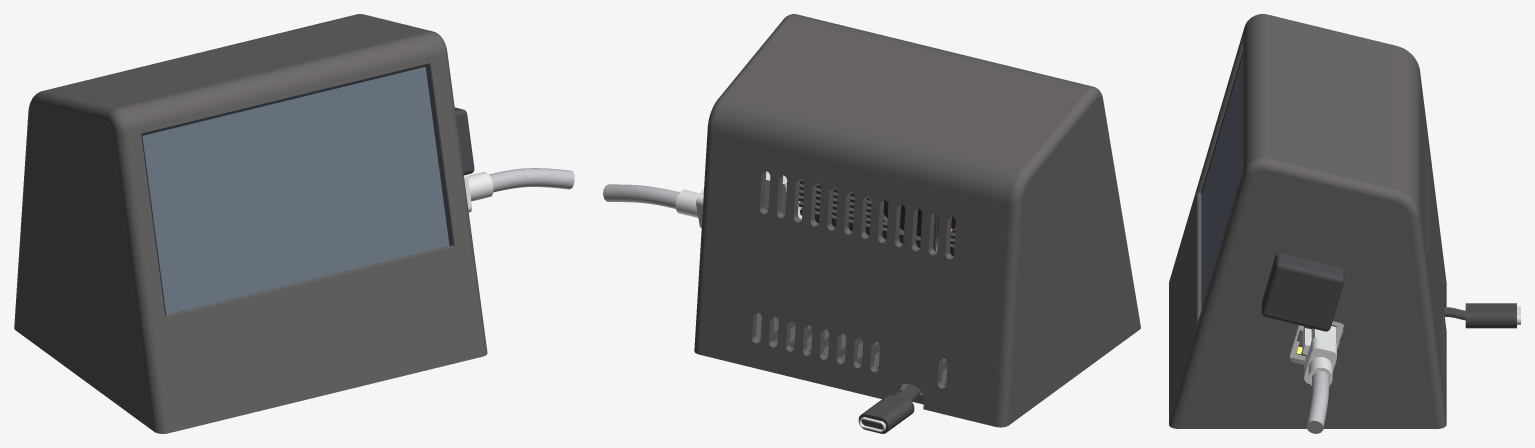
File: enclosure.glb
3 views of the same model, side by side, from view 1: azimuth 30°, elevation 25°; view 2: azimuth 150°, elevation 25°; view 3: azimuth 270°, elevation 25° (orthographic). The views are drawn at different scales.
Parts seen in each view (by area): view 1: shell, screen_picture, screen_glass, eth_cable, usb_bridge_black, eth_plug; view 2: shell, base, eth_cable, armor_lite_heatsink, usbc_socket_black, eth_plug; view 3: shell, screen_picture, usb_bridge_black, eth_plug, usbc_socket_black, eth_cable, pi4_metal.
Boxes of the visible parts, bbox=[...] form: shell: bbox=[14, 14, 487, 433]; screen_picture: bbox=[142, 67, 449, 314]; screen_glass: bbox=[141, 64, 451, 315]; eth_cable: bbox=[489, 168, 574, 192]; usb_bridge_black: bbox=[454, 107, 474, 175]; eth_plug: bbox=[464, 172, 493, 212]; shell: bbox=[694, 14, 1140, 427]; base: bbox=[756, 313, 947, 404]; eth_cable: bbox=[603, 184, 679, 208]; armor_lite_heatsink: bbox=[798, 179, 955, 256]; usbc_socket_black: bbox=[858, 394, 914, 433]; eth_plug: bbox=[675, 188, 703, 228]; shell: bbox=[1169, 14, 1446, 428]; screen_picture: bbox=[1201, 55, 1242, 309]; usb_bridge_black: bbox=[1261, 252, 1344, 331]; eth_plug: bbox=[1302, 326, 1336, 385]; usbc_socket_black: bbox=[1465, 303, 1516, 328]; eth_cable: bbox=[1306, 370, 1329, 433]; pi4_metal: bbox=[1290, 321, 1343, 360].
Size of the model in its own units: 165 by 92.05 by 110.
